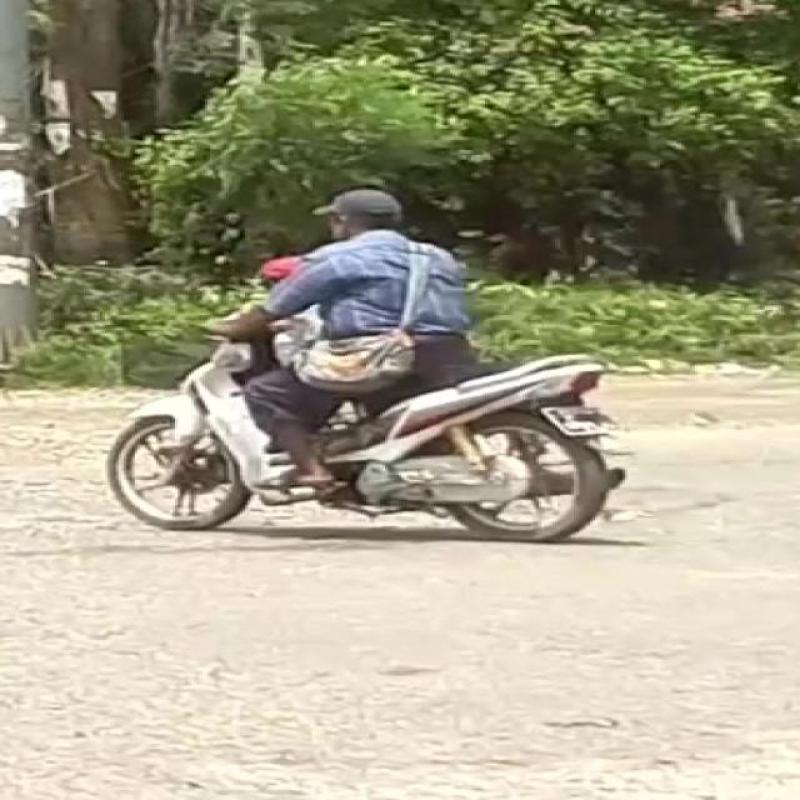nohelmet: (264, 156, 434, 248)
